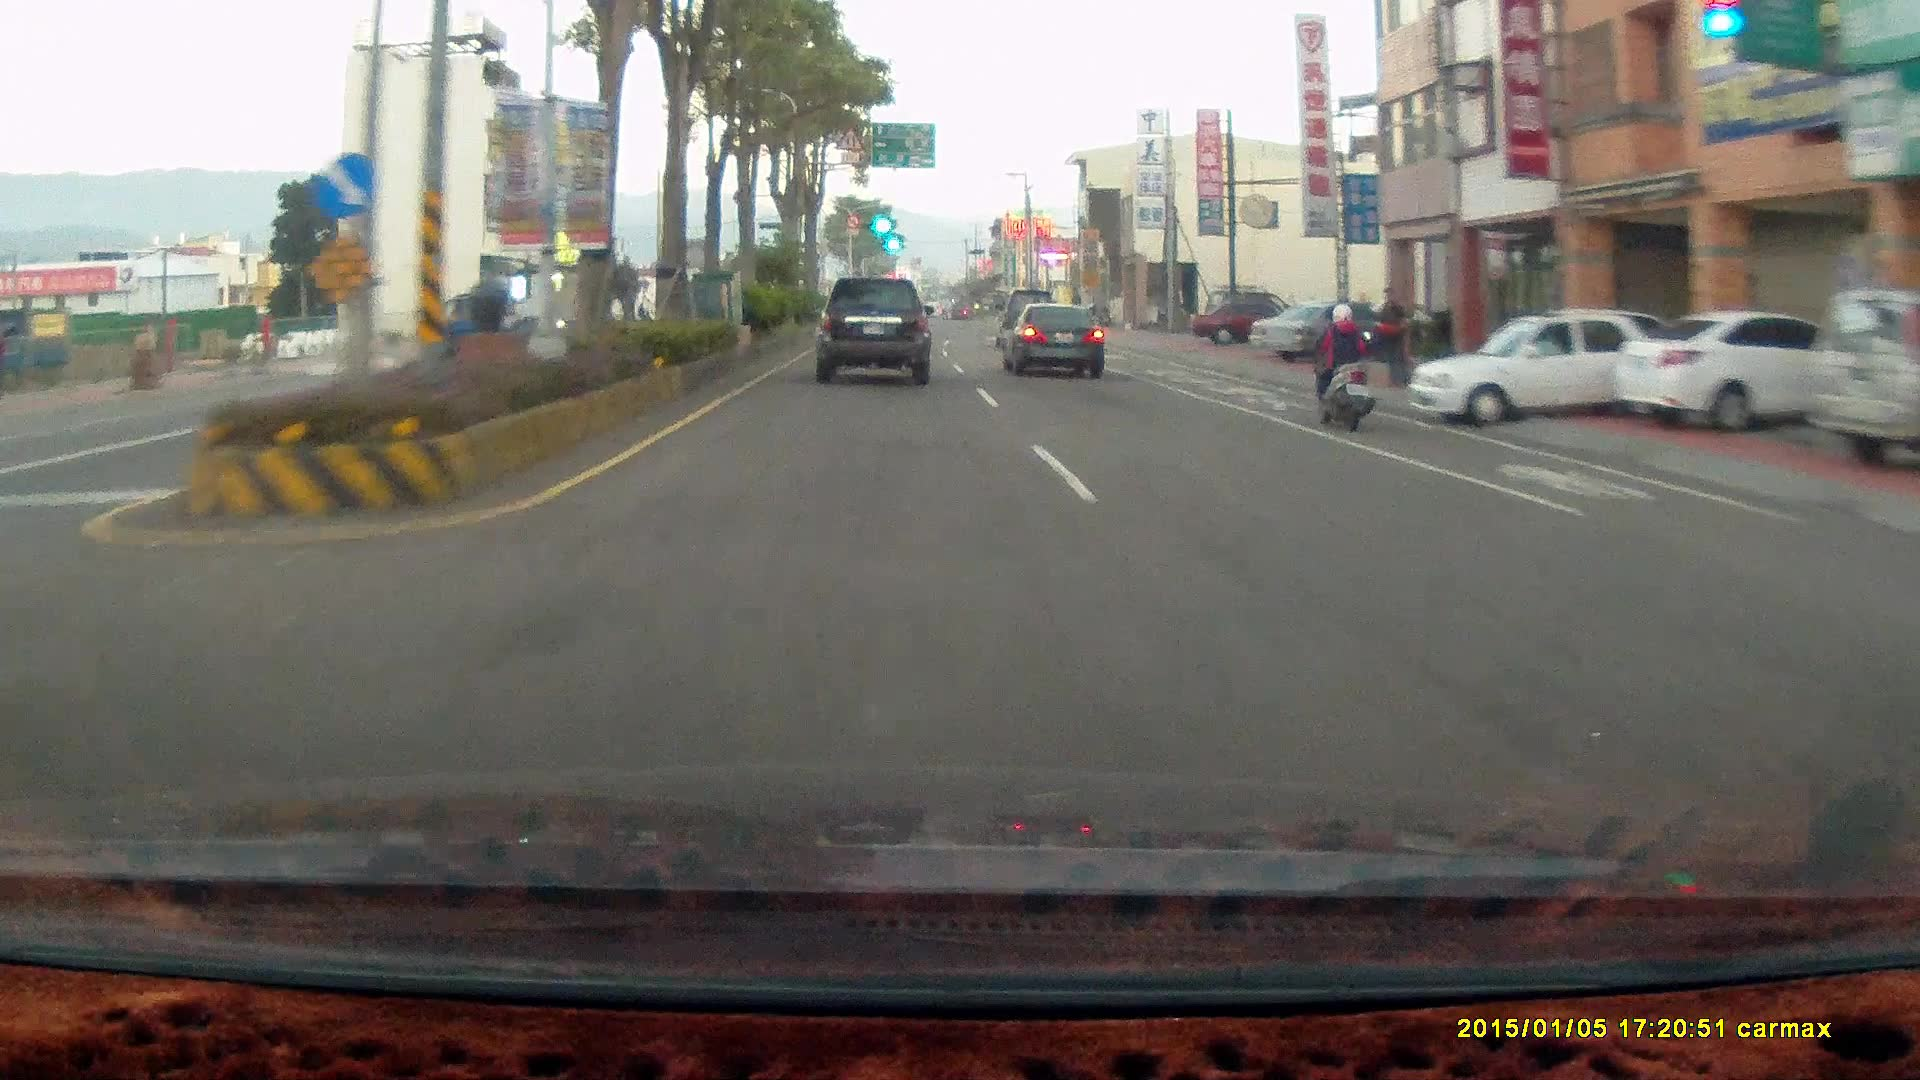pedestrian: (1370, 282, 1412, 385)
rider: (1300, 290, 1388, 442), (1308, 302, 1374, 432)
vehicle: (1613, 307, 1902, 435), (1408, 307, 1704, 420), (1410, 310, 1663, 424), (1610, 312, 1831, 434), (1802, 285, 1919, 467), (809, 274, 940, 390), (814, 279, 935, 389), (1250, 295, 1402, 360), (1250, 299, 1402, 362), (1000, 302, 1104, 381), (1007, 301, 1107, 378), (1191, 301, 1308, 345)
